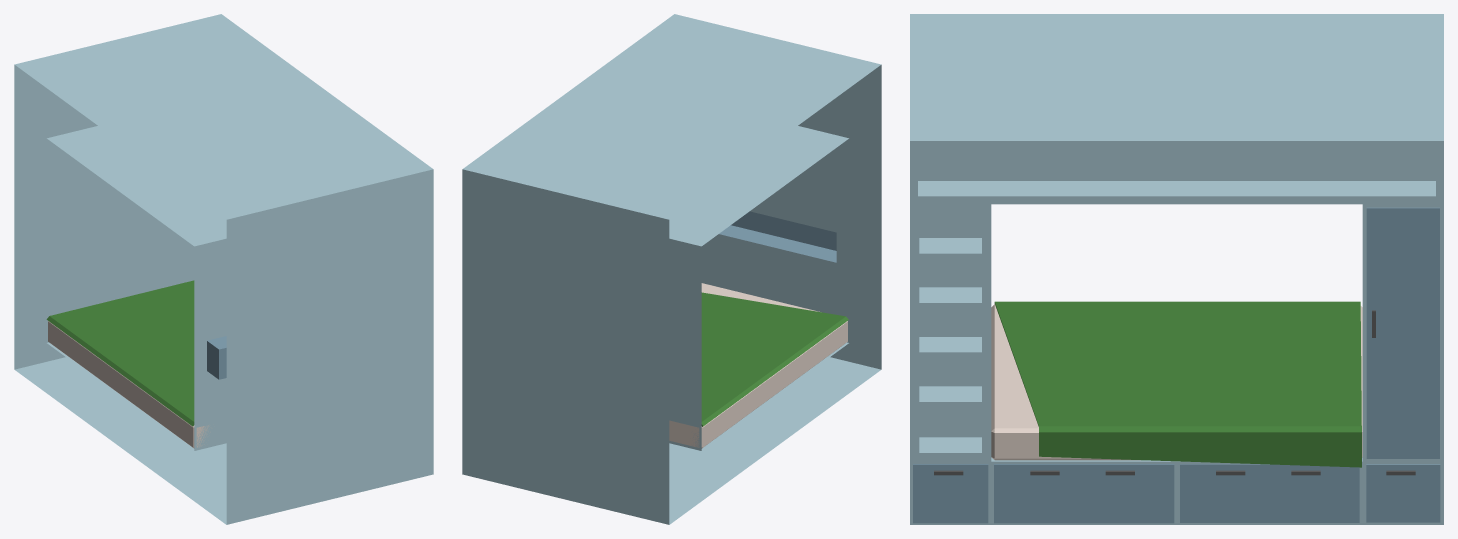
Rendered from Wardrobe_bed.fbx.
3 renders of one model, left to right at view 1: azimuth 30°, elevation 25°; view 2: azimuth 150°, elevation 25°; view 3: azimuth 270°, elevation 25°, orthographic. The views are drawn at different scales.
Parts seen in each view (by area): view 1: Wardrobe_bed; view 2: Wardrobe_bed; view 3: Wardrobe_bed.
Boxes of the visible parts, x1,y1,x2,y2 form: Wardrobe_bed: (14,14,433,524); Wardrobe_bed: (462,14,881,524); Wardrobe_bed: (910,14,1443,524).
Bounding box in the file's own units: 280 × 489 × 388.
